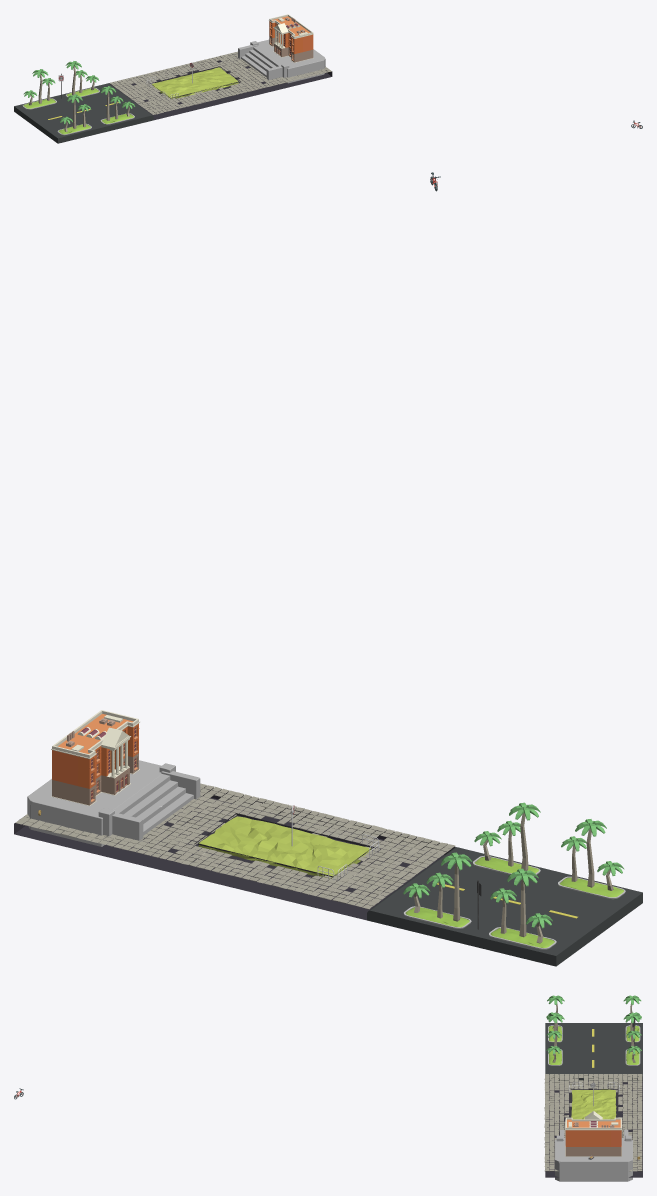
Rendered from MainLib-transformed.glb.
3 views of the same model, one above another, from view 1: azimuth 30°, elevation 25°; view 2: azimuth 150°, elevation 25°; view 3: azimuth 270°, elevation 25° (orthographic). The views are drawn at different scales.
Parts seen in each view (by area): view 1: 地板, Plane.003, Plane, Plane.001, School_Cube.001, Cube, Plane.005, L, Cube.001, Cube.002, M, S; view 2: 地板, Plane.003, Plane, Plane.001, School_Cube.001, Cube, Plane.005, L, Cube.001, Cube.002, M, S; view 3: 地板, Plane.003, Cube, School_Cube.001, Plane, Plane.001, Plane.005, L, M.
Part boxes in pixels (x1=…): 地板: x1=109, y1=51, x2=331, y2=114; Plane.003: x1=14, y1=83, x2=153, y2=143; Plane: x1=109, y1=53, x2=332, y2=120; Plane.001: x1=152, y1=67, x2=238, y2=99; School_Cube.001: x1=269, y1=14, x2=313, y2=62; Cube: x1=257, y1=39, x2=325, y2=83; Plane.005: x1=22, y1=87, x2=134, y2=135; L: x1=32, y1=61, x2=115, y2=128; Cube.001: x1=241, y1=46, x2=281, y2=76; Cube.002: x1=238, y1=41, x2=289, y2=81; M: x1=42, y1=70, x2=123, y2=127; S: x1=23, y1=75, x2=135, y2=131; 地板: x1=15, y1=783, x2=455, y2=909; Plane.003: x1=367, y1=847, x2=642, y2=966; Plane: x1=14, y1=786, x2=455, y2=920; Plane.001: x1=198, y1=816, x2=370, y2=879; School_Cube.001: x1=52, y1=710, x2=138, y2=805; Cube: x1=27, y1=760, x2=161, y2=846; Plane.005: x1=404, y1=855, x2=625, y2=949; L: x1=441, y1=802, x2=606, y2=937; Cube.001: x1=114, y1=774, x2=193, y2=835; Cube.002: x1=98, y1=763, x2=200, y2=843; M: x1=426, y1=820, x2=586, y2=933; S: x1=403, y1=831, x2=624, y2=943; 地板: x1=544, y1=1074, x2=642, y2=1171; Plane.003: x1=545, y1=1023, x2=642, y2=1080; Cube: x1=555, y1=1140, x2=632, y2=1181; School_Cube.001: x1=565, y1=1117, x2=621, y2=1156; Plane: x1=545, y1=1074, x2=642, y2=1177; Plane.001: x1=571, y1=1089, x2=616, y2=1119; Plane.005: x1=548, y1=1025, x2=640, y2=1065; L: x1=547, y1=995, x2=641, y2=1051; M: x1=546, y1=1013, x2=641, y2=1055.
Size of the model in its own units: 141 by 45 by 200.
27 materials, 4 textured.
